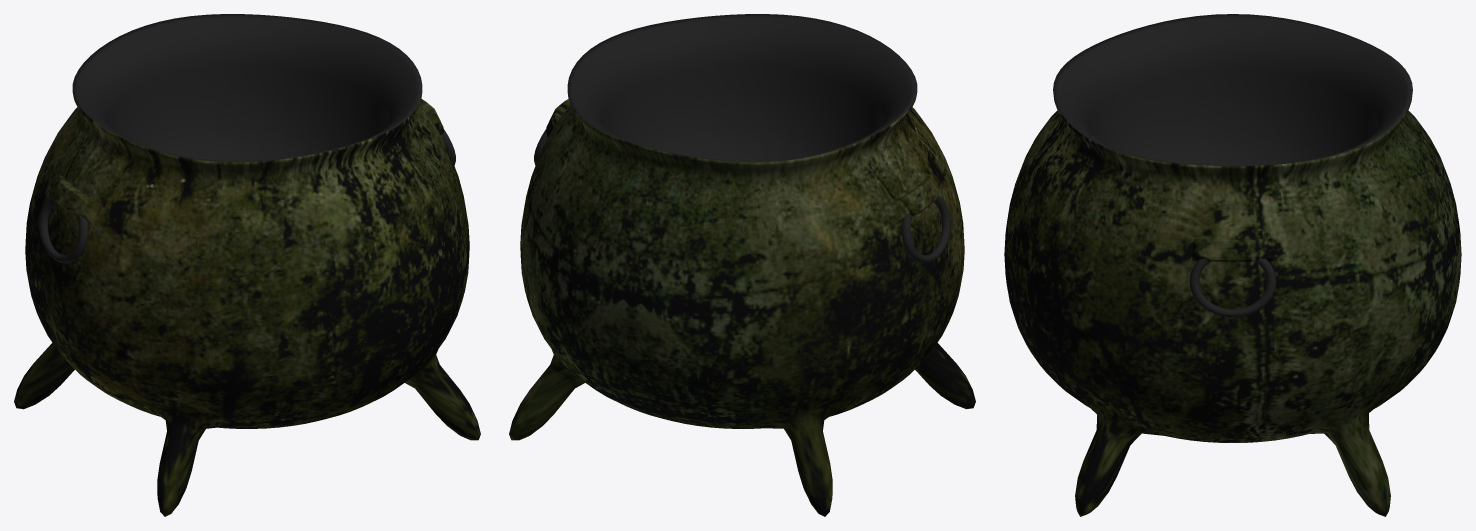
The model's file is cauldron.FBX.
3 views of the same model, side by side, from view 1: azimuth 30°, elevation 25°; view 2: azimuth 150°, elevation 25°; view 3: azimuth 270°, elevation 25° (orthographic). The views are drawn at different scales.
Visible parts, largest first — view 1: Cauldron, Cauldron_Handle_02; view 2: Cauldron, Cauldron_Handle_02; view 3: Cauldron, Cauldron_Handle_01.
Part boxes in pixels (x1,y1,x2,y2): Cauldron: [14, 14, 480, 516]; Cauldron_Handle_02: [39, 195, 88, 263]; Cauldron: [509, 14, 975, 516]; Cauldron_Handle_02: [901, 195, 950, 263]; Cauldron: [1004, 14, 1461, 516]; Cauldron_Handle_01: [1189, 258, 1276, 317].
Size of the model in its own units: 39.41 by 32.82 by 38.99.
